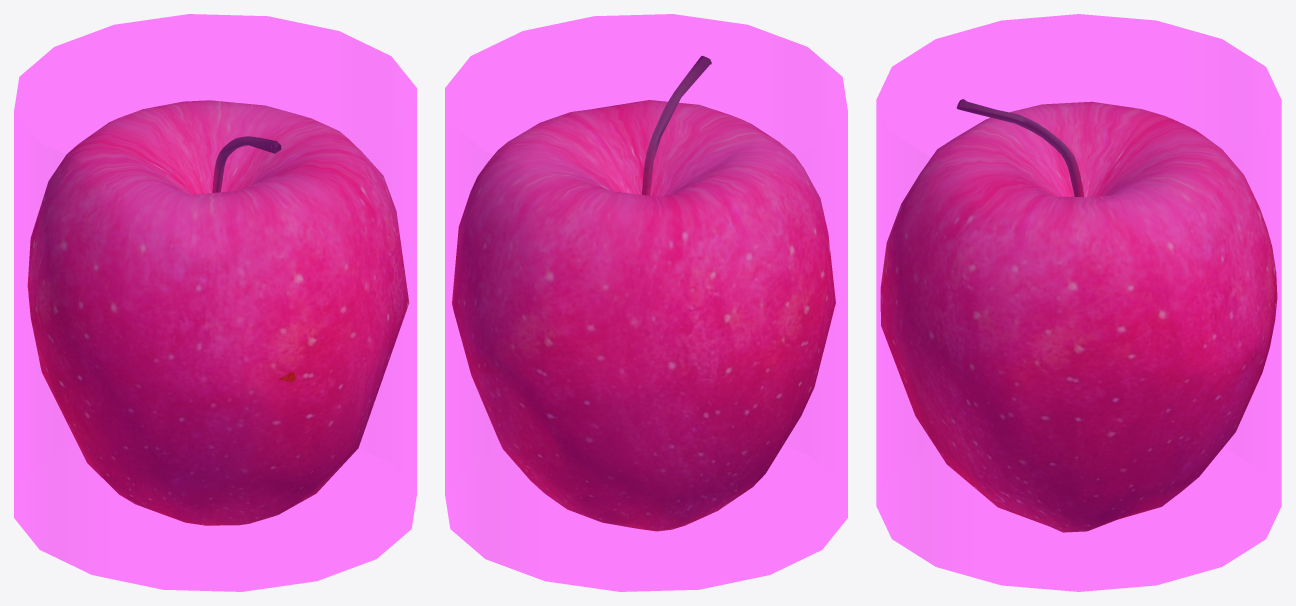
File: apple.fbx
The picture shows the model from 3 angles, left to right: view 1: azimuth 30°, elevation 25°; view 2: azimuth 150°, elevation 25°; view 3: azimuth 270°, elevation 25°; orthographic projection.
Parts seen in each view (by area): view 1: boundingbox, apple; view 2: boundingbox, apple; view 3: boundingbox, apple.
Part boxes in pixels (<box>): boundingbox: <box>14,14,416,591</box>; apple: <box>27,100,409,525</box>; boundingbox: <box>445,14,847,591</box>; apple: <box>452,55,835,531</box>; boundingbox: <box>876,14,1281,591</box>; apple: <box>880,99,1277,532</box>.
Bounding box in the file's own units: 7 × 7.75 × 7.
Materials: 3 (2 with a texture image).
